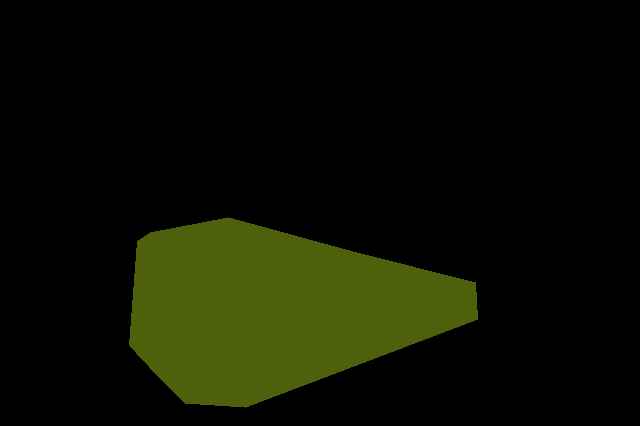Train: (129, 217, 478, 407)
